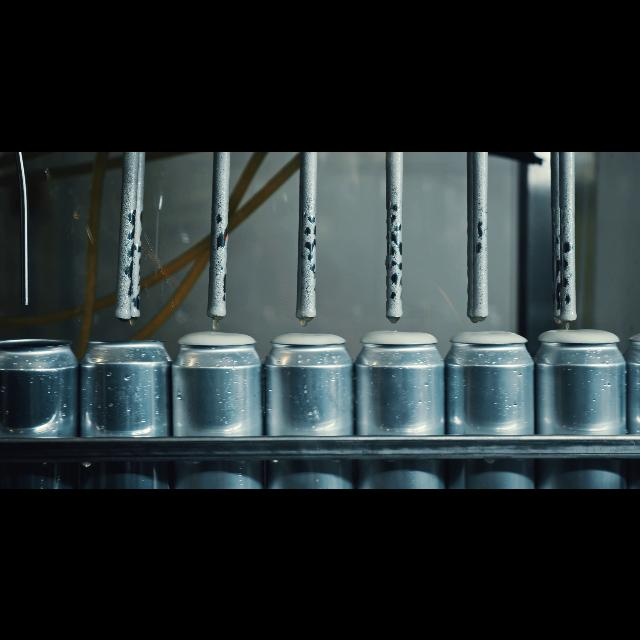empty: (82, 326, 172, 488), (6, 324, 80, 488)
full: (266, 314, 356, 488), (536, 320, 622, 488), (177, 312, 259, 488), (364, 318, 444, 488), (450, 320, 530, 488)
